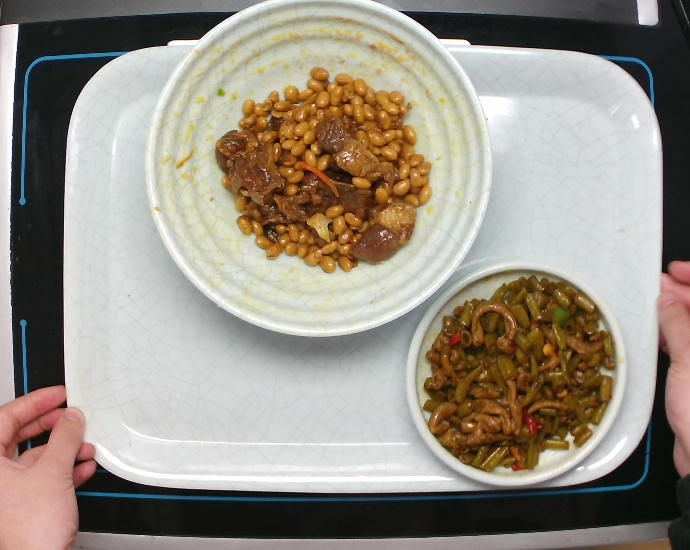JYsf-Da_Tang_Wan: (135, 1, 495, 343)
JYsf-Xiao_Yuan_Pan: (398, 256, 632, 493)
